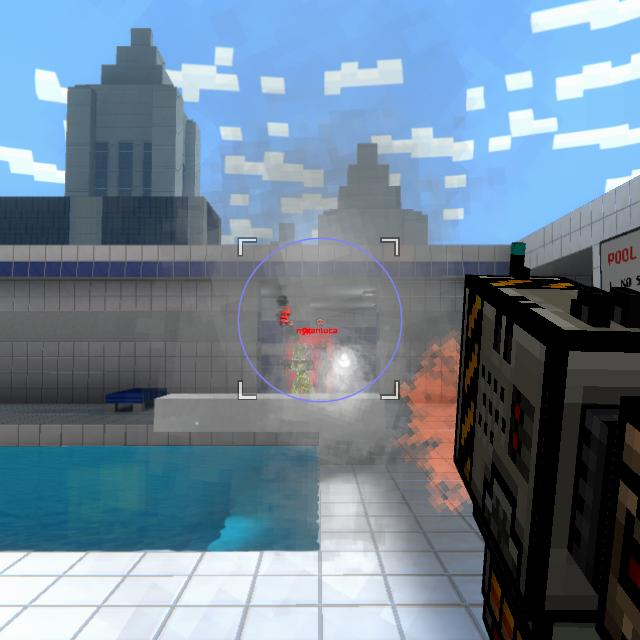Enemy: (285, 342, 315, 393)
